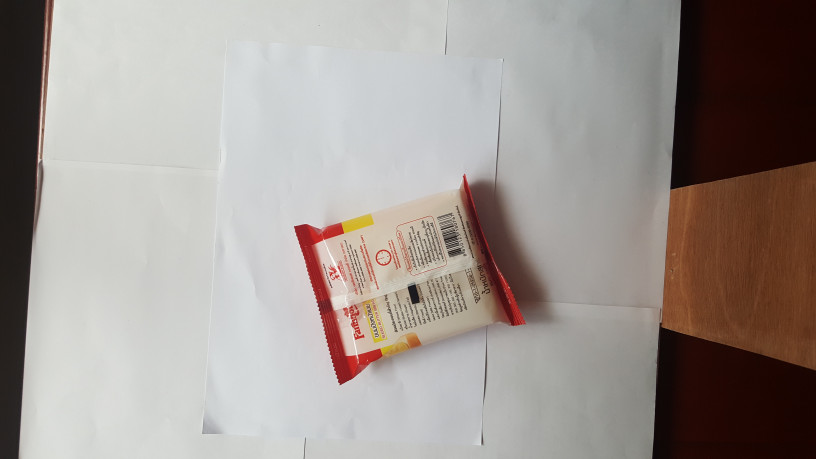farmhouse-bread-butter: (293, 168, 538, 388)
